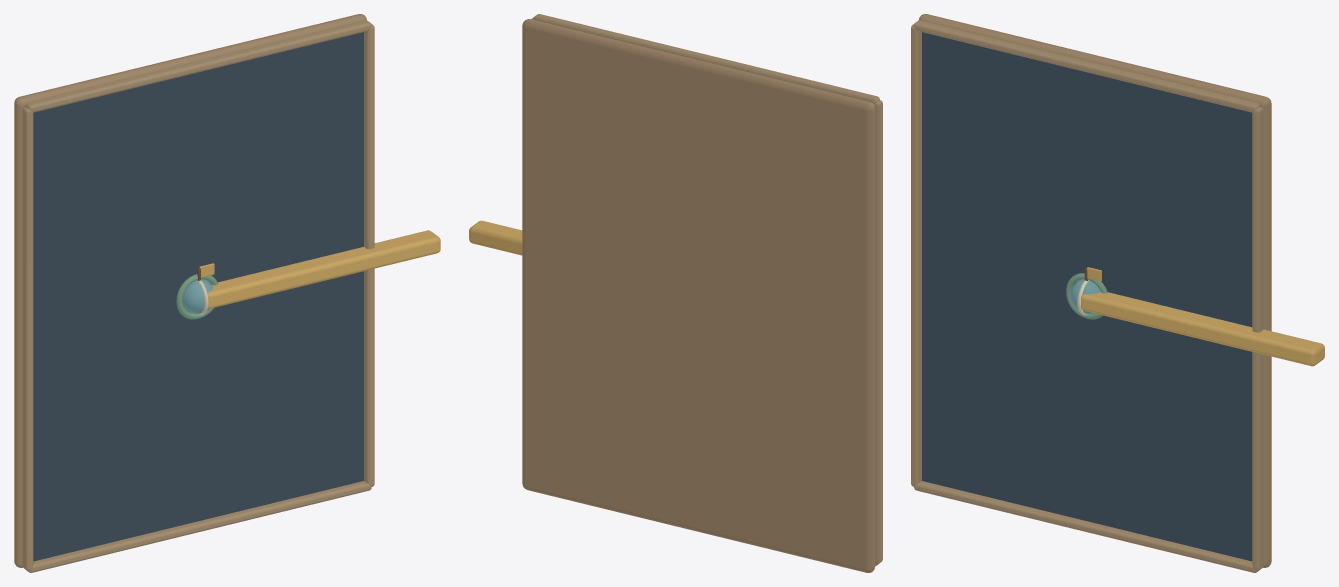
Rendered from rolling_dark.glb.
3 renders of one model, left to right at view 1: azimuth 30°, elevation 25°; view 2: azimuth 150°, elevation 25°; view 3: azimuth 330°, elevation 25°, orthographic.
Visible parts, largest first — view 1: part (×9); view 2: part (×4); view 3: part (×7).
Boxes of the visible parts, x1,y1,x2,y2 form: part (×9): (14,14,440,572); part (×4): (469,14,882,572); part (×7): (911,14,1324,572).
Bounding box in the file's own units: 419 × 458 × 35.6.
